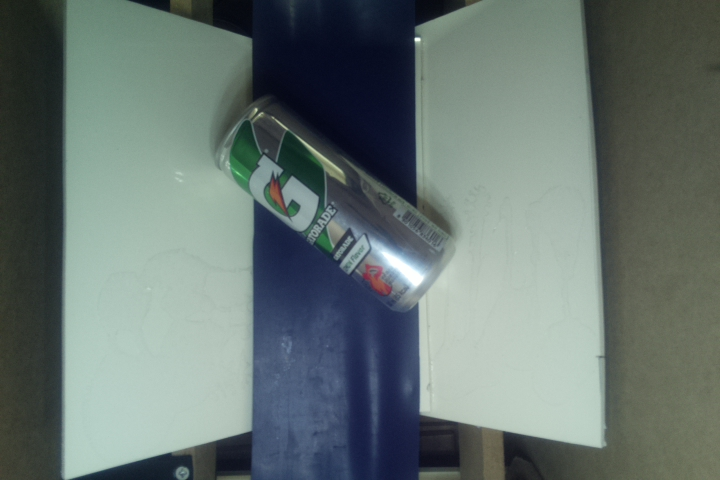can: (210, 93, 458, 316)
